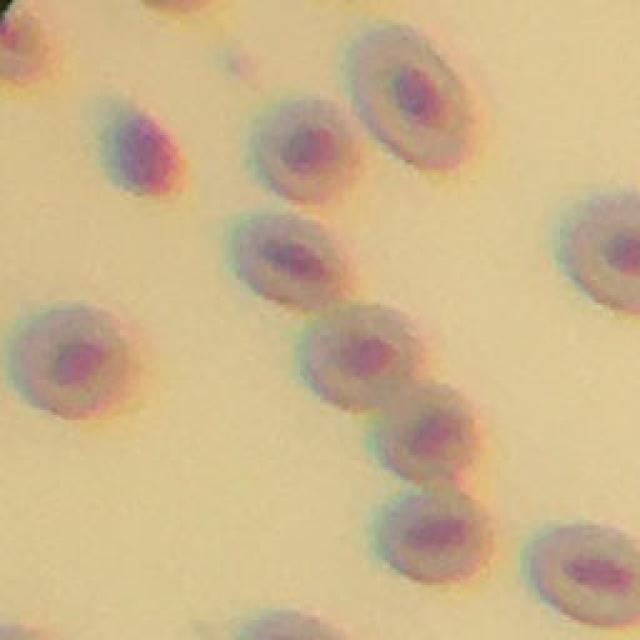RBC: (354, 26, 469, 168), (18, 306, 129, 418), (305, 304, 421, 409), (529, 524, 640, 624), (239, 216, 352, 309), (259, 99, 360, 202), (380, 490, 492, 581), (378, 381, 478, 482), (568, 194, 640, 312)
WBC: (120, 116, 180, 193)
